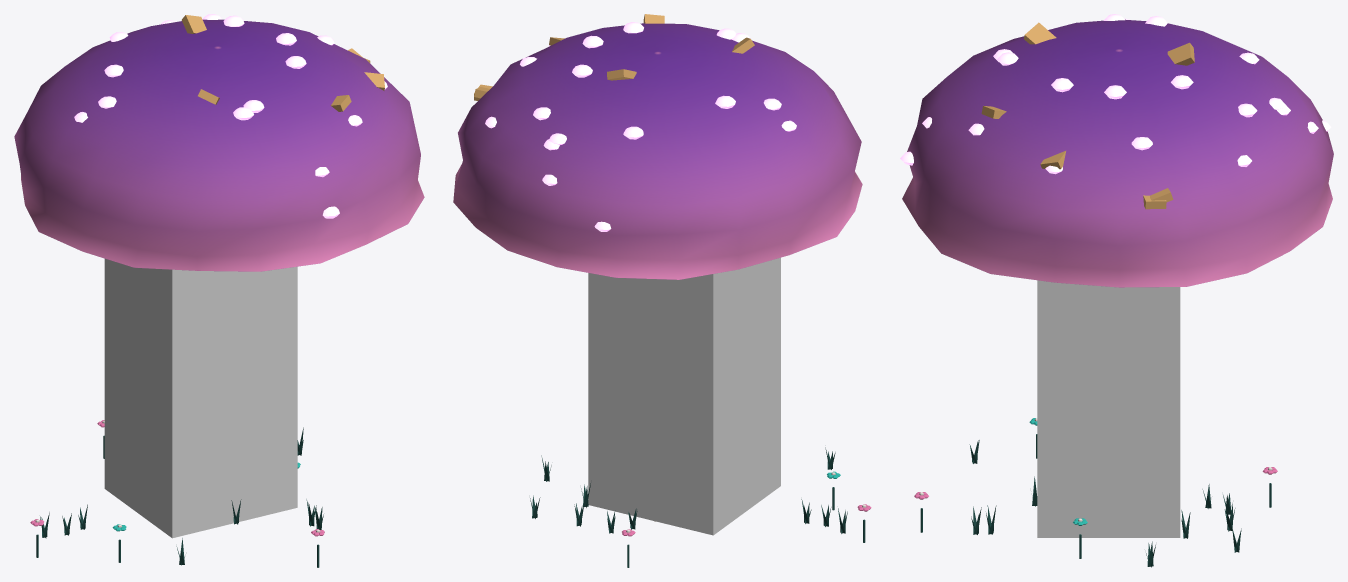
File: Giant_Mushroom_A.fbx
3 renders of one model, left to right at view 1: azimuth 30°, elevation 25°; view 2: azimuth 150°, elevation 25°; view 3: azimuth 270°, elevation 25°, orthographic. The views are drawn at different scales.
Parts seen in each view (by area): view 1: Giant_Mushroom_A_Cap, COL_Giant_Mushroom_A_0, Giant_Mushroom_A_Cap_Decoration, Giant_Mushroom_A_Base_Grass; view 2: Giant_Mushroom_A_Cap, COL_Giant_Mushroom_A_0, Giant_Mushroom_A_Cap_Decoration, Giant_Mushroom_A_Base_Grass; view 3: Giant_Mushroom_A_Cap, COL_Giant_Mushroom_A_0, Giant_Mushroom_A_Cap_Decoration, Giant_Mushroom_A_Base_Grass.
Part boxes in pixels (bbox=[...]): Giant_Mushroom_A_Cap: bbox=[14, 19, 424, 271]; COL_Giant_Mushroom_A_0: bbox=[104, 258, 297, 538]; Giant_Mushroom_A_Cap_Decoration: bbox=[74, 14, 387, 218]; Giant_Mushroom_A_Base_Grass: bbox=[30, 420, 324, 567]; Giant_Mushroom_A_Cap: bbox=[453, 23, 862, 279]; COL_Giant_Mushroom_A_0: bbox=[588, 257, 780, 535]; Giant_Mushroom_A_Cap_Decoration: bbox=[474, 14, 796, 231]; Giant_Mushroom_A_Base_Grass: bbox=[530, 447, 871, 567]; Giant_Mushroom_A_Cap: bbox=[902, 19, 1333, 287]; COL_Giant_Mushroom_A_0: bbox=[1037, 280, 1180, 537]; Giant_Mushroom_A_Cap_Decoration: bbox=[900, 14, 1331, 209]; Giant_Mushroom_A_Base_Grass: bbox=[914, 418, 1277, 567].
Size of the model in its own units: 4.39 by 5.11 by 4.13.
9 materials, 1 textured.
